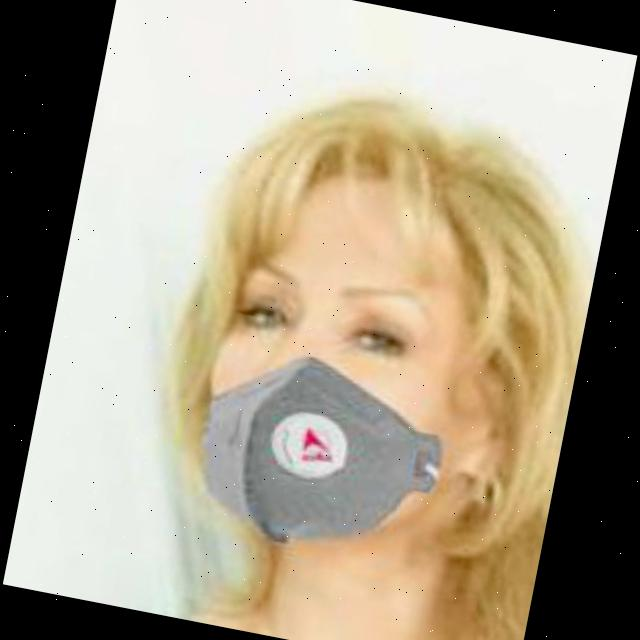suspicion: (141, 124, 545, 596)
